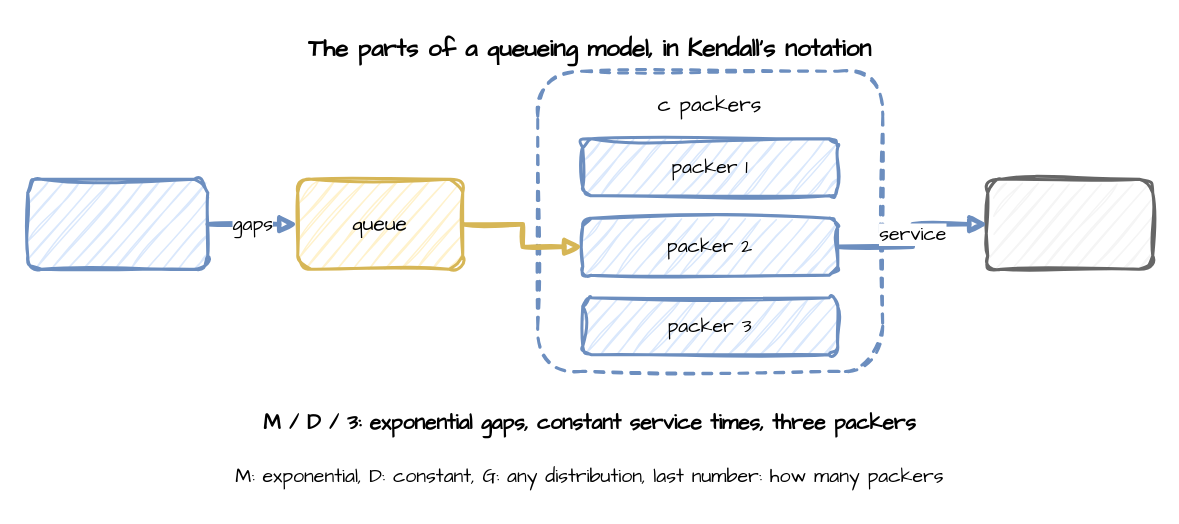
The diagram is 1179 pixels wide and 524 high, and some of its shapes have lost their labels. Here are the shapes that lost their labels. From the top down, the centre of each, then its label:
At [117,223]: "orders".
At [1070,223]: "packed".
